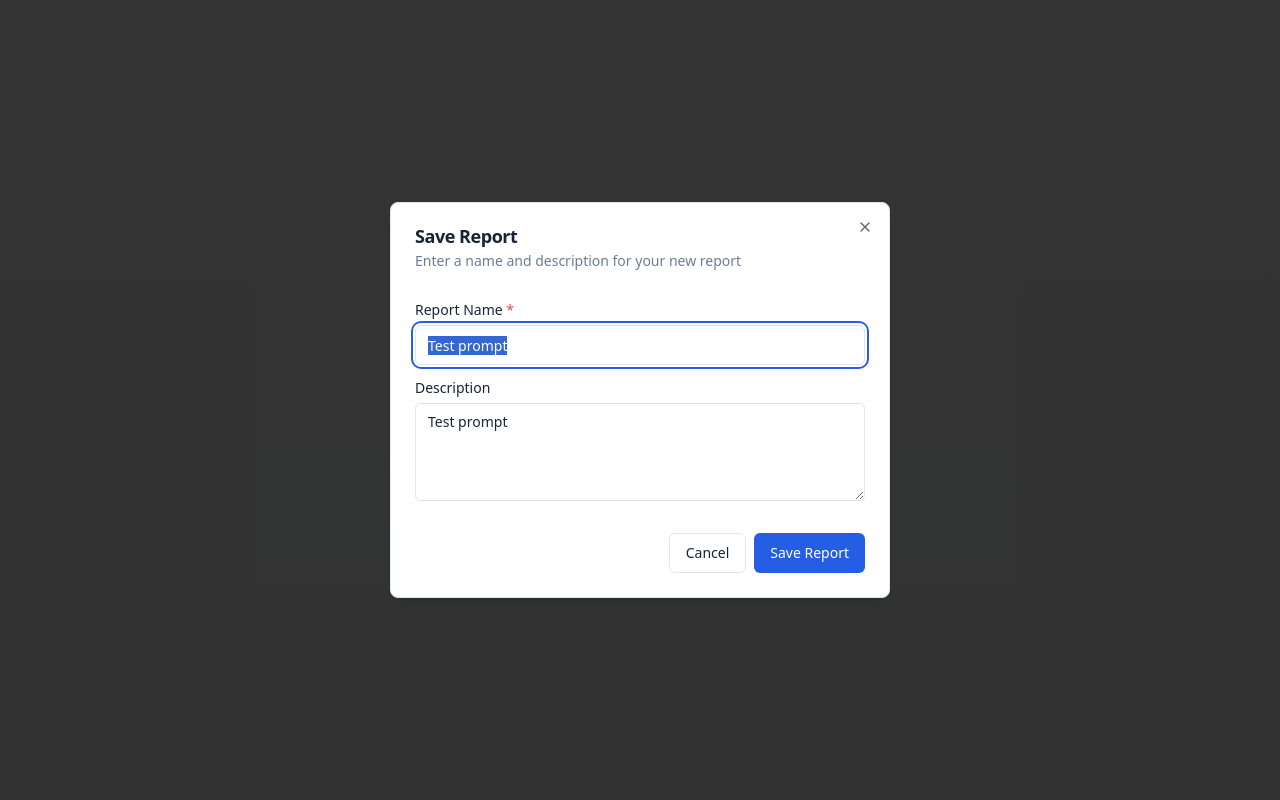
SaveReportDialog › requires name field to save
Clear the field labelled "Report Name *". click: [640, 345]
box: [415,325,865,365]
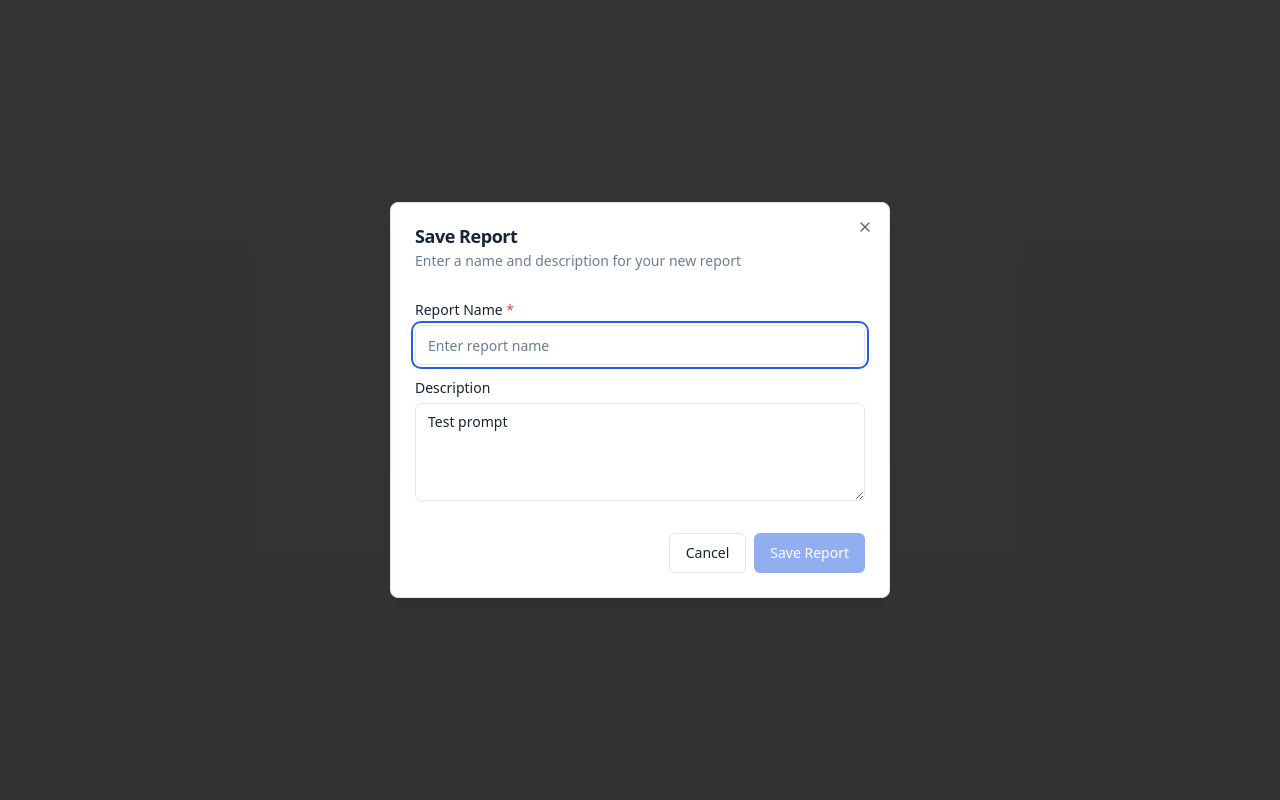
Result: the button "Save Report" is disabled at [754,533,865,573]
